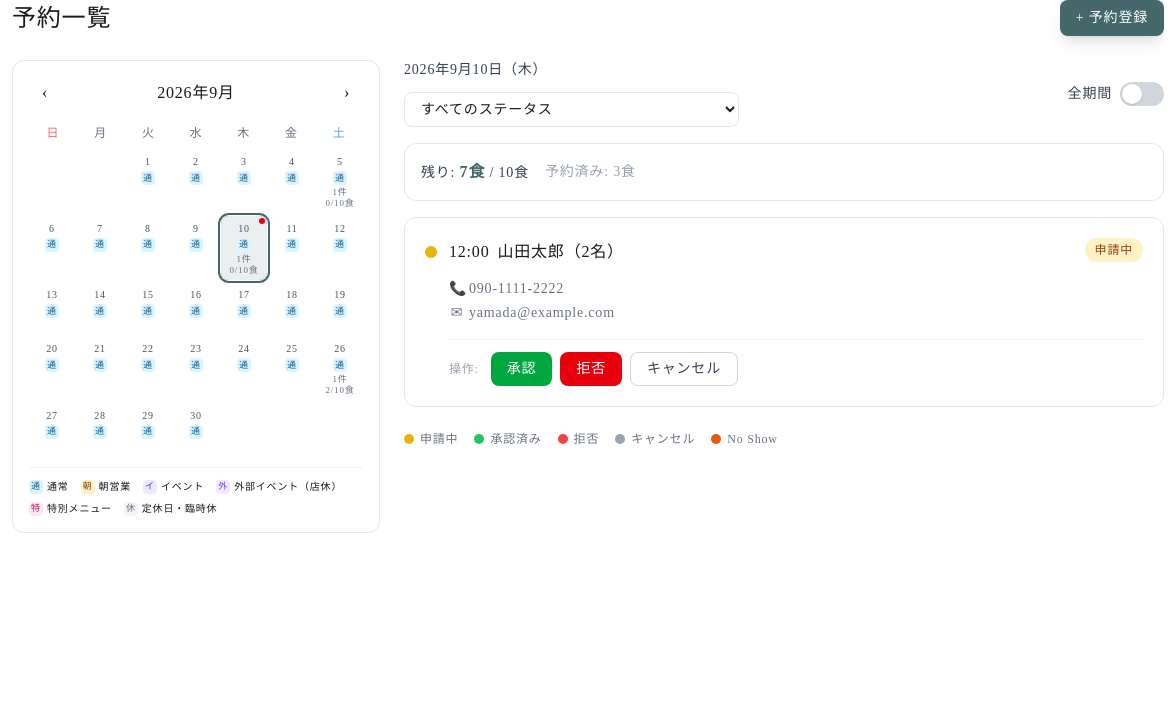
Test: ReservationTable › 全期間モード › トグルは既定で OFF、ON にすると全期間の予約を日付見出し付きで昇順に表示する
Check: the text "2026年9月26日（土）" is not shown
Check: the text "2026年9月10日（木）" is shown, box x1=404 y1=60 x2=547 y2=80
Click the switch named "全期間". click: (1142, 94)
box: x1=1120 y1=82 x2=1164 y2=106
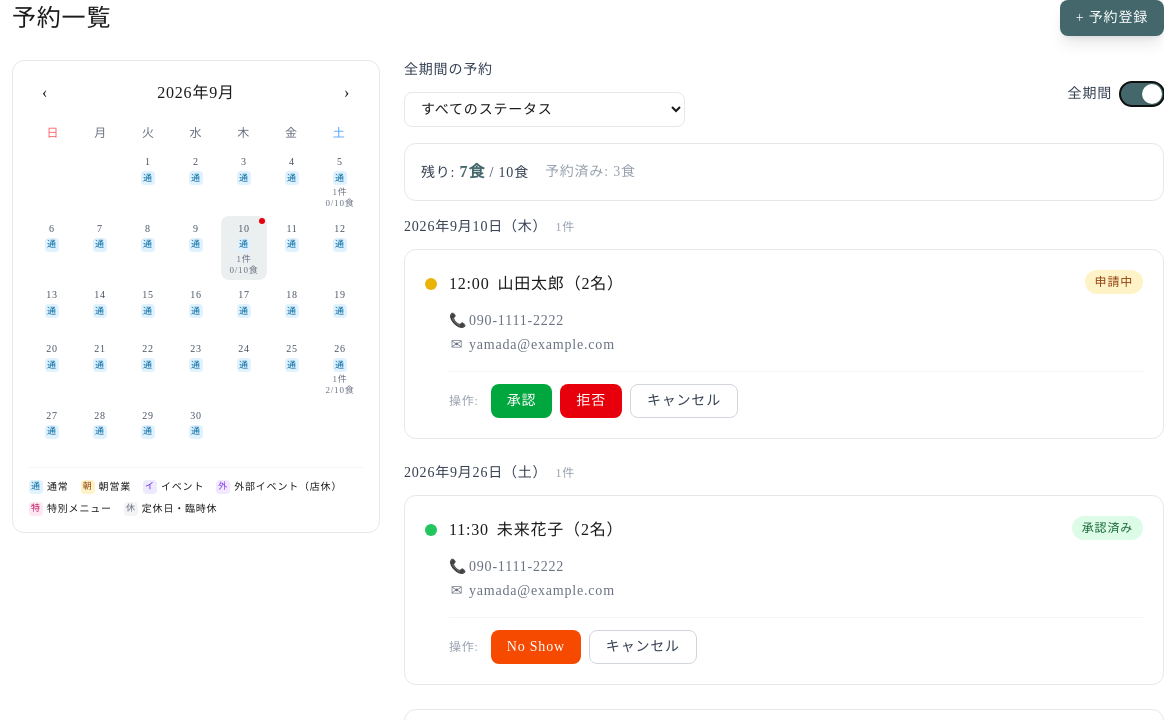
Check: the text "山田太郎（2名）" is shown, box x1=498 y1=275 x2=624 y2=292
Check: the text "全期間の予約" is shown, box x1=404 y1=60 x2=493 y2=80
Check: the text "未来花子（2名）" is shown, box x1=497 y1=521 x2=623 y2=538
